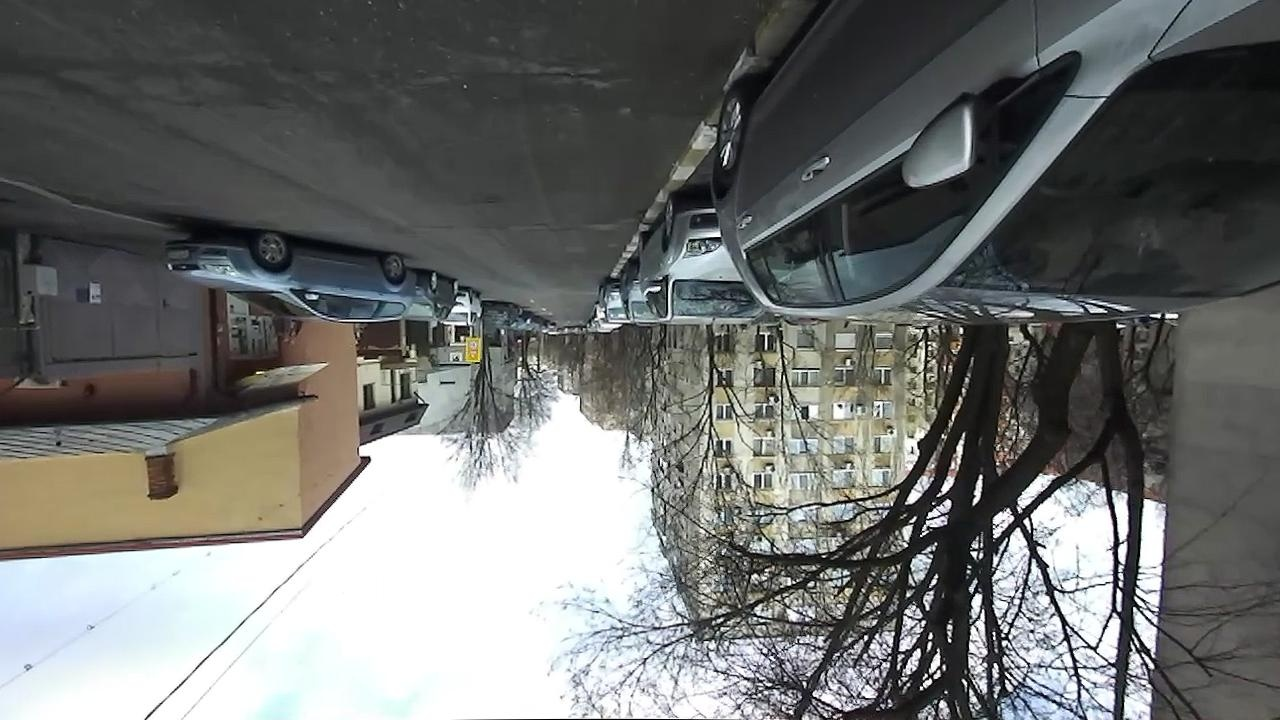pothole: (487, 54, 617, 91), (478, 193, 503, 210)
